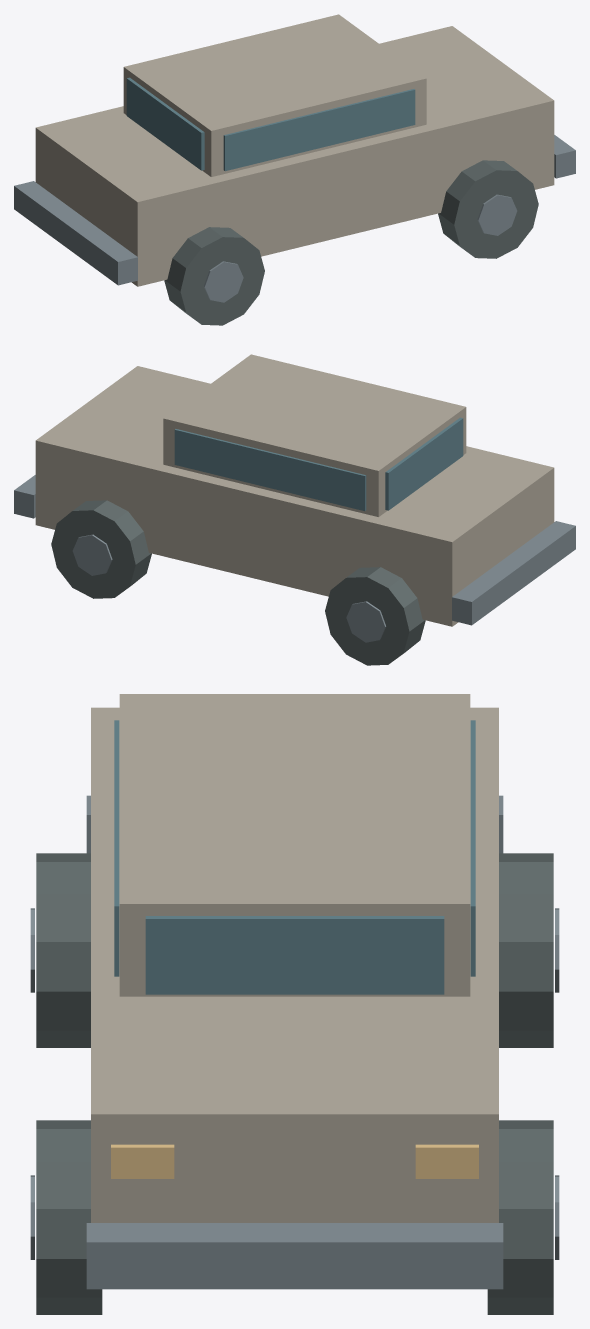
The model's file is vehicle.glb.
3 views of the same model, one above another, from view 1: azimuth 30°, elevation 25°; view 2: azimuth 150°, elevation 25°; view 3: azimuth 270°, elevation 25° (orthographic). The views are drawn at different scales.
Visible parts, largest first — view 1: vehicle; view 2: vehicle; view 3: vehicle.
Boxes of the visible parts, bbox=[...] form: vehicle: bbox=[14, 14, 575, 325]; vehicle: bbox=[14, 354, 575, 665]; vehicle: bbox=[30, 694, 559, 1314].
Size of the model in its own units: 3.68 by 1.36 by 1.84.
